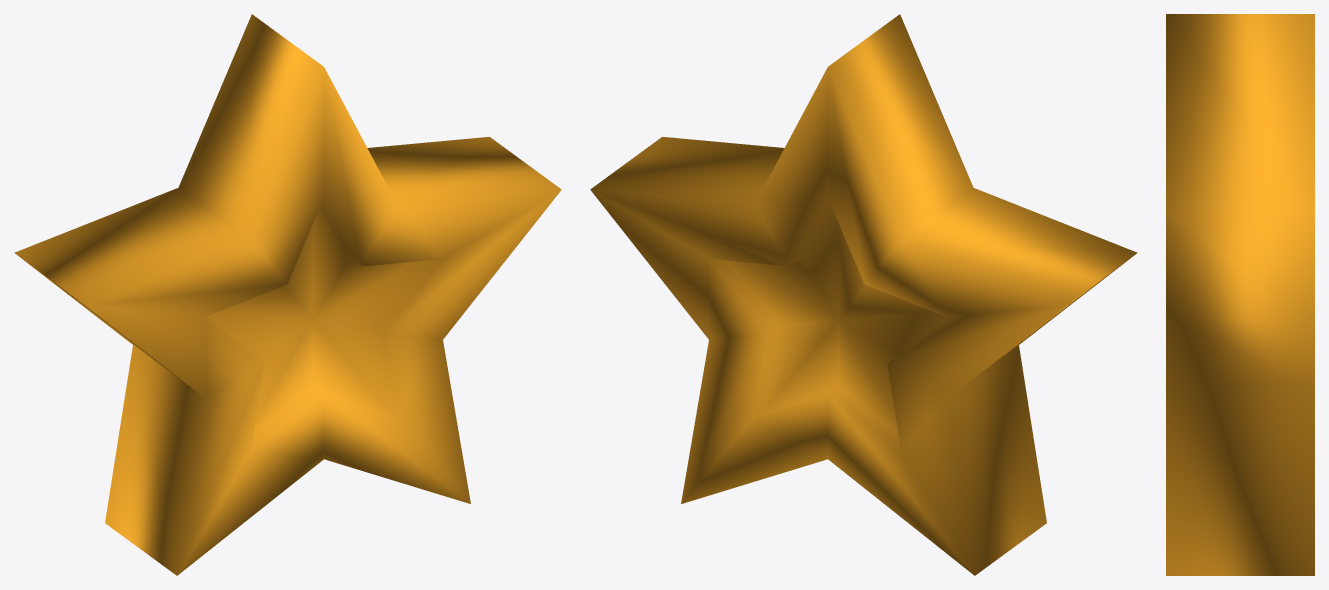
Rendered from 02-STAR-05.fbx.
3 renders of one model, left to right at view 1: azimuth 30°, elevation 25°; view 2: azimuth 150°, elevation 25°; view 3: azimuth 270°, elevation 25°, orthographic. The views are drawn at different scales.
Parts seen in each view (by area): view 1: 02-STAR-05; view 2: 02-STAR-05; view 3: 02-STAR-05.
Boxes of the visible parts, box(x1,y1,x2,y2) form: 02-STAR-05: box(14, 14, 561, 575); 02-STAR-05: box(590, 14, 1137, 575); 02-STAR-05: box(1166, 14, 1314, 575).
Size of the model in its own units: 380 by 362 by 100.
